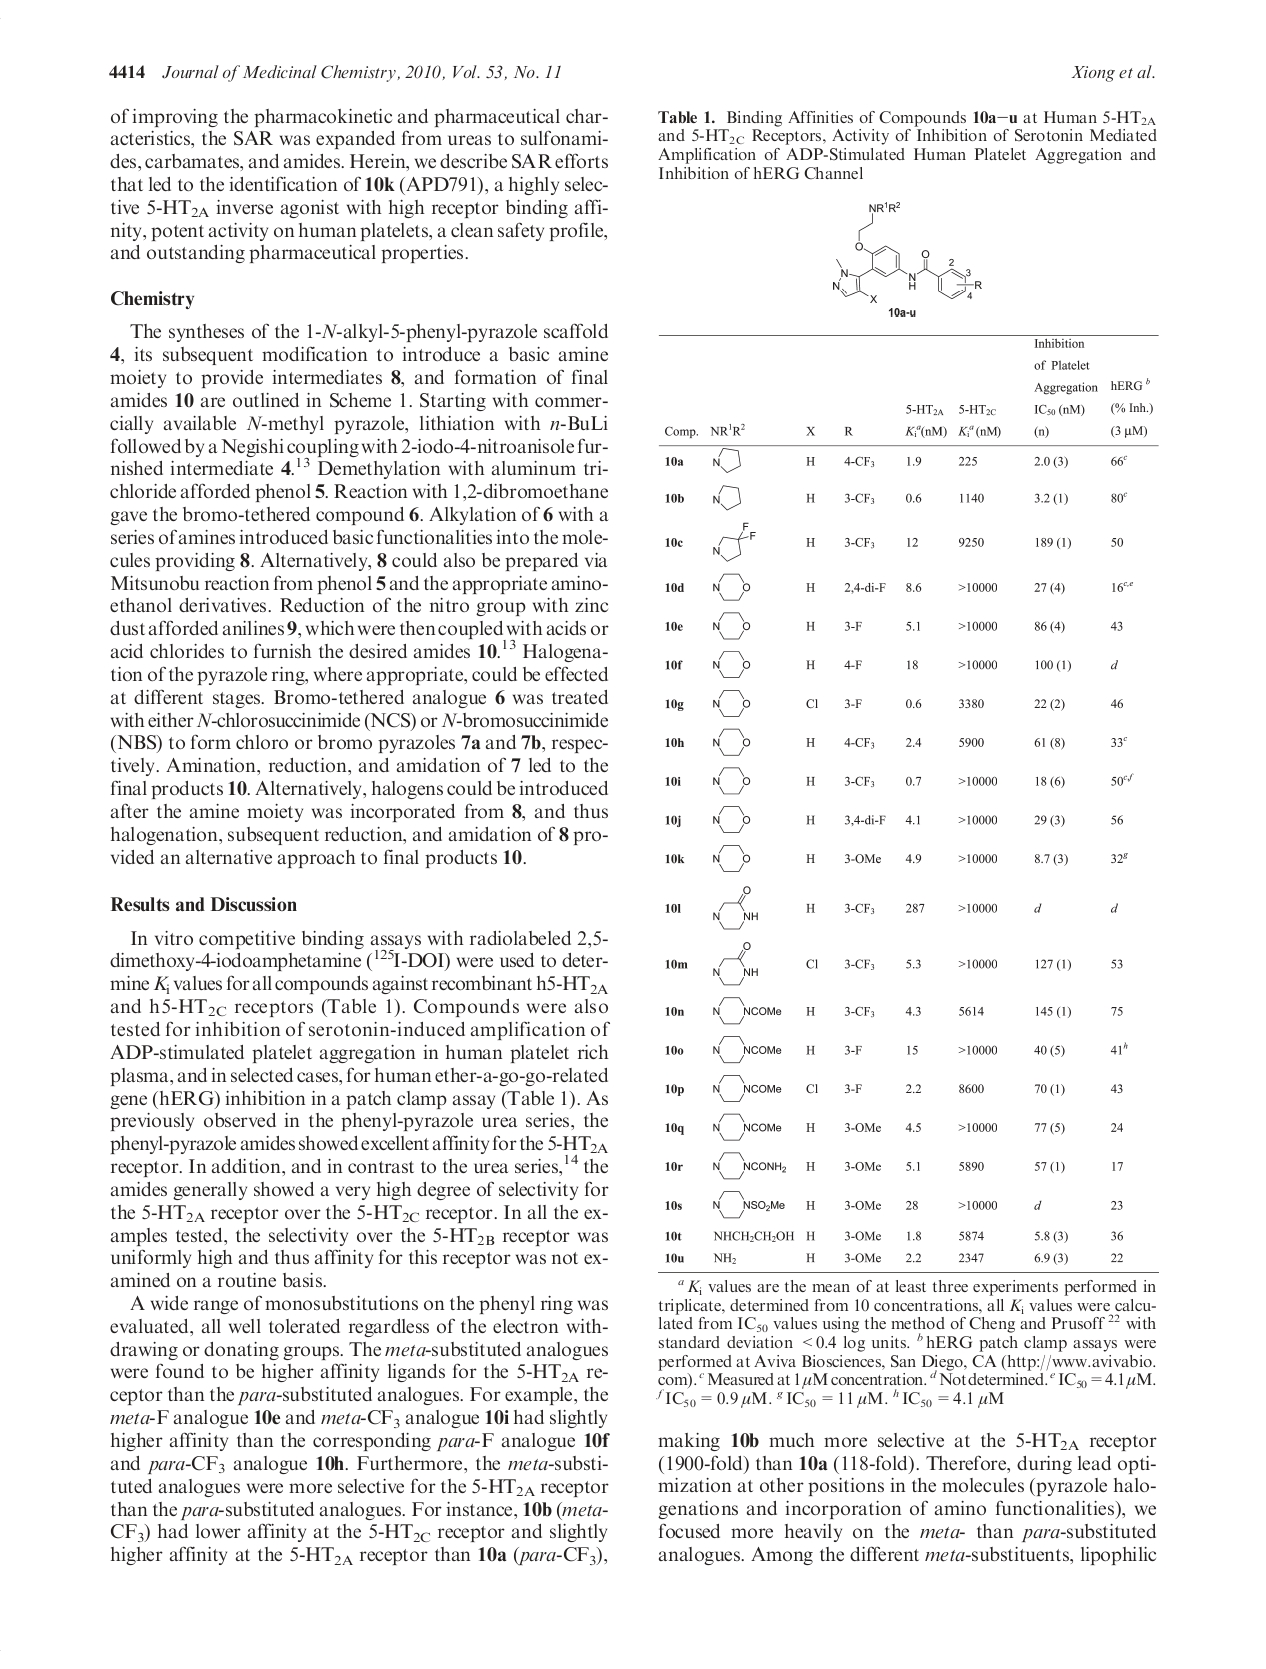exist_molecular: (824, 197, 989, 321), (707, 1031, 786, 1067), (710, 1146, 789, 1182), (709, 884, 762, 936), (709, 1072, 787, 1106), (710, 1189, 789, 1222), (707, 517, 763, 563), (711, 940, 761, 991), (707, 1110, 785, 1142), (709, 993, 785, 1025), (710, 569, 759, 602), (710, 606, 754, 644), (710, 763, 754, 799), (710, 803, 751, 840), (711, 684, 751, 718), (709, 648, 751, 680), (709, 843, 751, 875), (706, 446, 743, 476), (710, 480, 745, 511)
